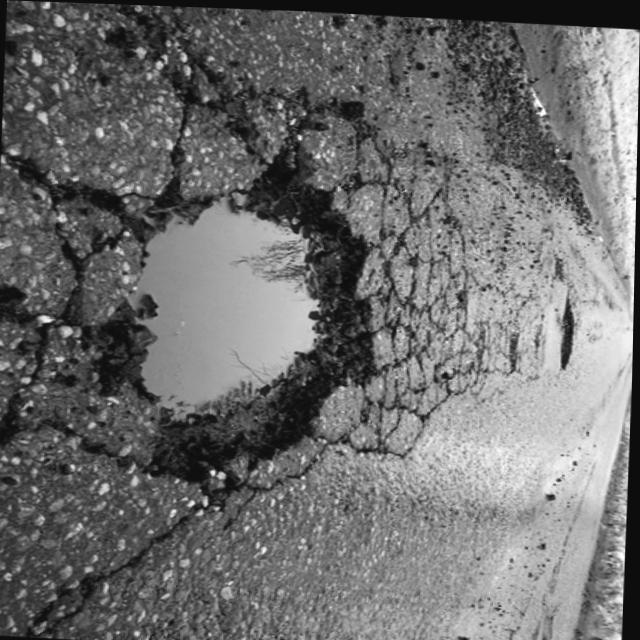pothole: (98, 136, 394, 487), (544, 293, 584, 367)
